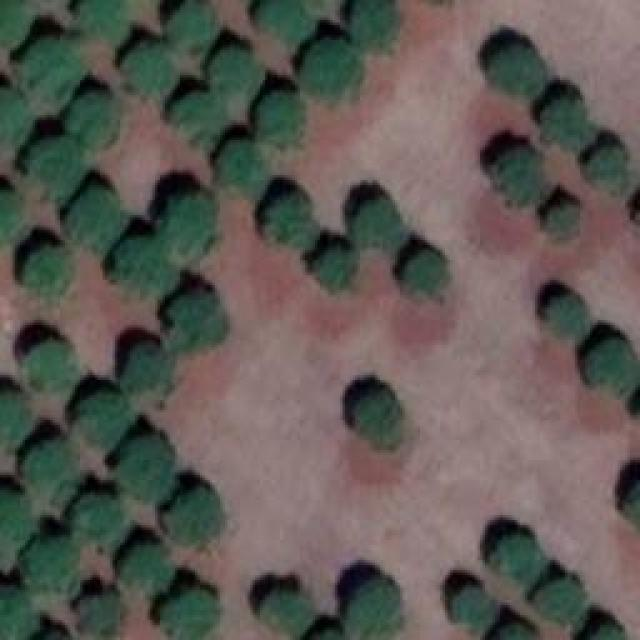Tree: (117, 433, 175, 503), (348, 575, 408, 640), (25, 35, 83, 95), (582, 335, 640, 395), (165, 285, 220, 348), (493, 148, 548, 211), (493, 38, 546, 101), (70, 190, 125, 250), (538, 290, 588, 355), (25, 545, 83, 600), (308, 38, 361, 98), (23, 440, 83, 493), (535, 95, 595, 148), (30, 140, 83, 198), (165, 193, 220, 248), (68, 90, 118, 150), (265, 185, 315, 243), (168, 485, 218, 543), (208, 48, 261, 101), (355, 390, 403, 448), (495, 527, 543, 585), (123, 43, 178, 93), (163, 590, 218, 640), (115, 235, 165, 288), (260, 585, 313, 635), (530, 578, 583, 628), (173, 95, 226, 143), (27, 243, 75, 296), (255, 90, 305, 140), (218, 143, 268, 193), (167, 0, 215, 50), (27, 338, 75, 388), (353, 198, 398, 248), (125, 543, 170, 593), (80, 395, 128, 440), (78, 495, 123, 543), (125, 342, 170, 390), (0, 492, 32, 559), (358, 0, 398, 50), (260, 0, 310, 40), (0, 85, 28, 155), (583, 148, 626, 193), (83, 592, 123, 640), (453, 588, 496, 631), (0, 593, 38, 638), (0, 389, 32, 442), (410, 248, 448, 291), (320, 245, 360, 285), (545, 195, 580, 240), (0, 193, 28, 246), (80, 0, 125, 32), (0, 0, 27, 42), (585, 622, 633, 640), (495, 620, 533, 640)
